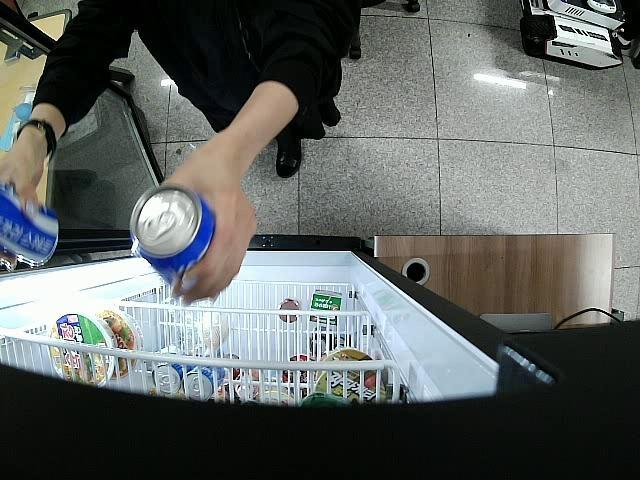13_pocariSweat: (130, 183, 216, 291), (0, 184, 60, 268)
